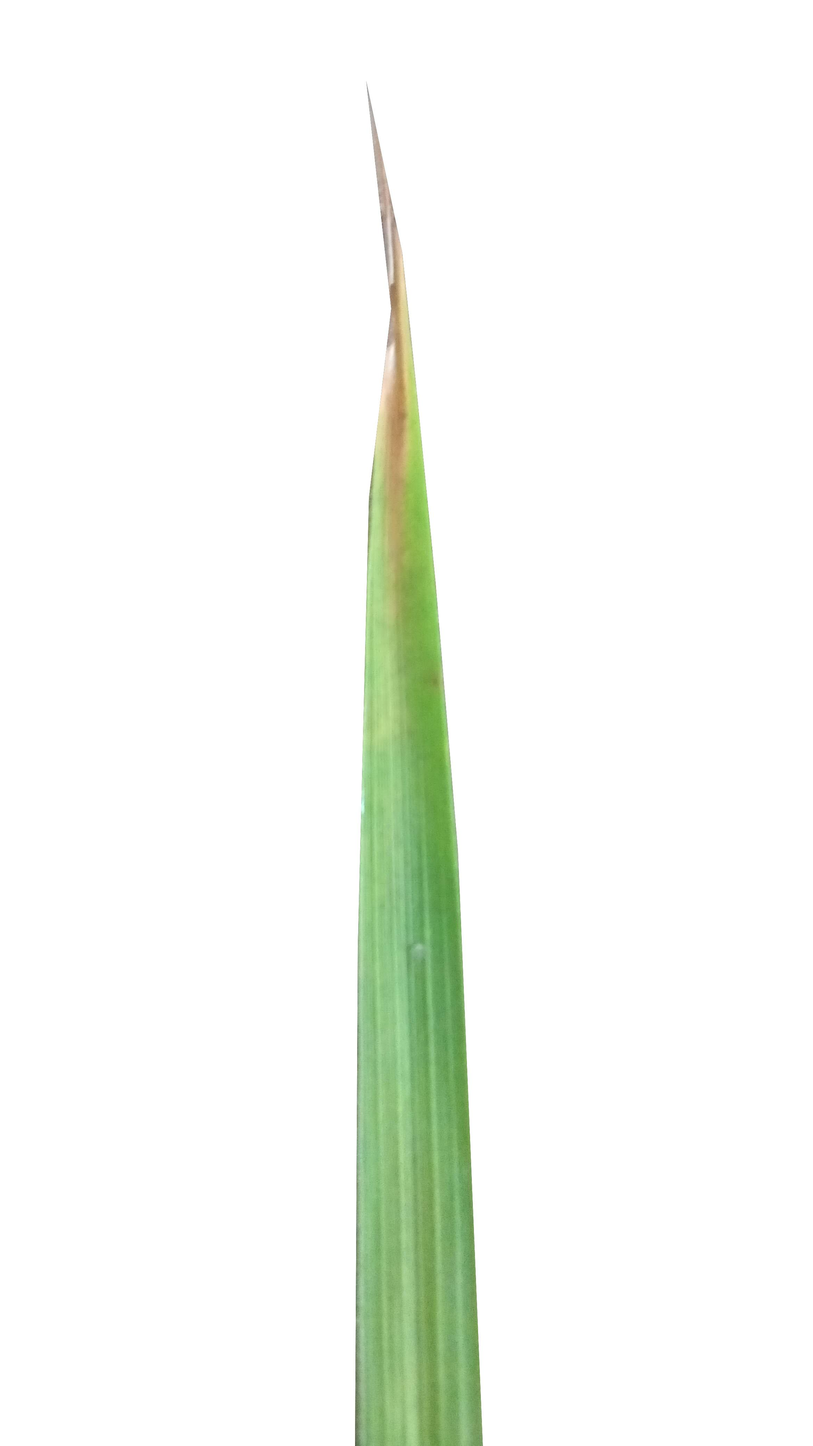Tungro: (368, 202, 455, 897)
